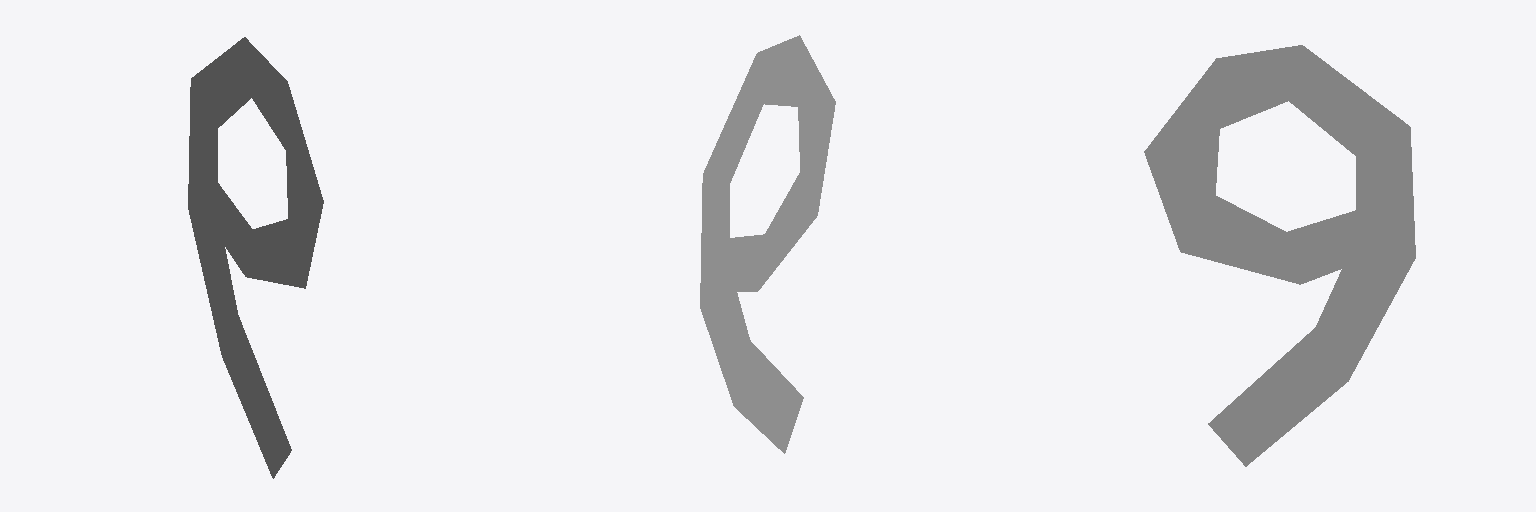
File: number_9.obj
3 views of the same model, side by side, from view 1: azimuth 30°, elevation 25°; view 2: azimuth 150°, elevation 25°; view 3: azimuth 270°, elevation 25° (orthographic).
Visible parts, largest first — view 1: number_9; view 2: number_9; view 3: number_9.
Part boxes in pixels (x1,y1,x2,y2): number_9: (188,37,323,478); number_9: (700,35,835,453); number_9: (1144,45,1415,466).
Size of the model in its own units: 0 by 6.86 by 4.01.